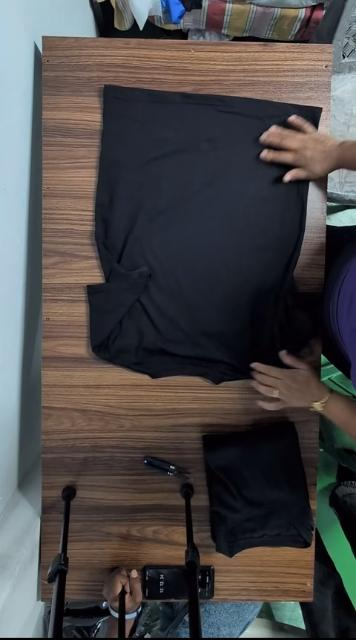new-garment: (87, 85, 321, 383)
